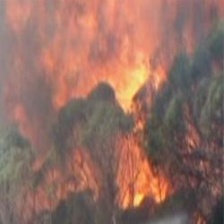fire: (98, 49, 160, 114), (120, 156, 171, 208)
